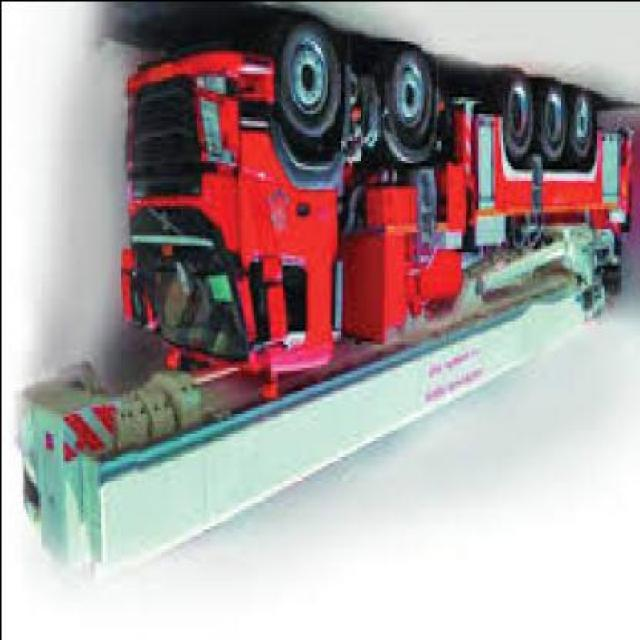Fire Truck: (1, 5, 638, 617)
